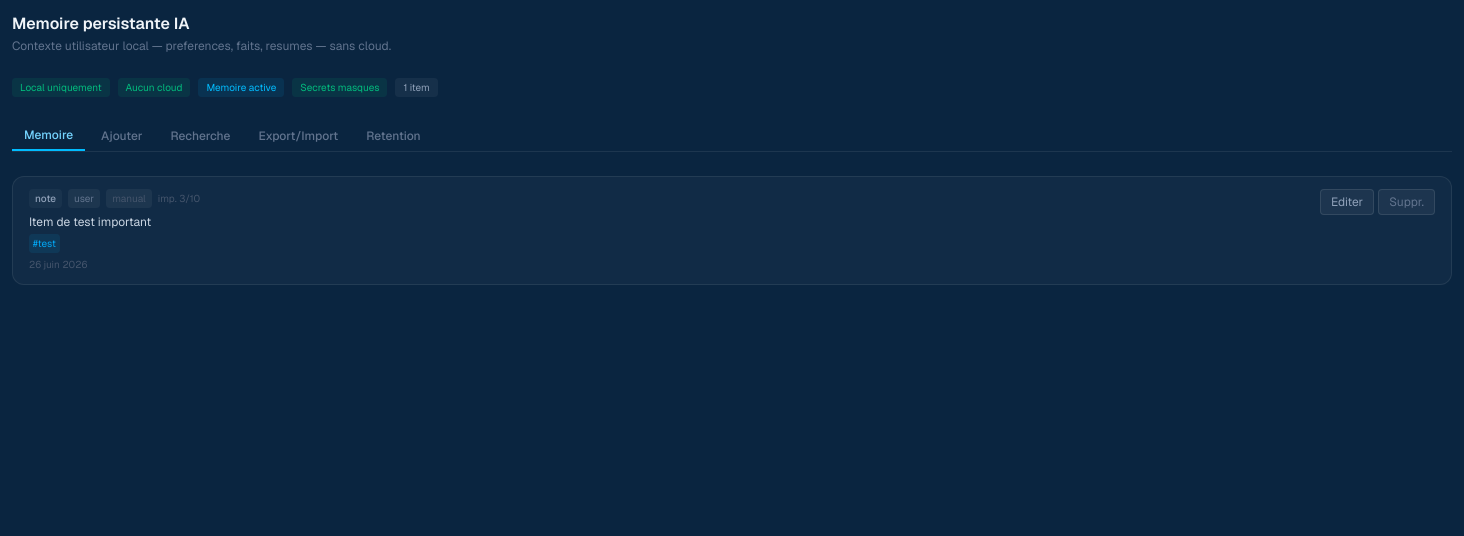
Test: AiMemoryPanel › bascule vers l'onglet Ajouter
Click the button "Ajouter": (122, 136) [89, 121, 155, 151]
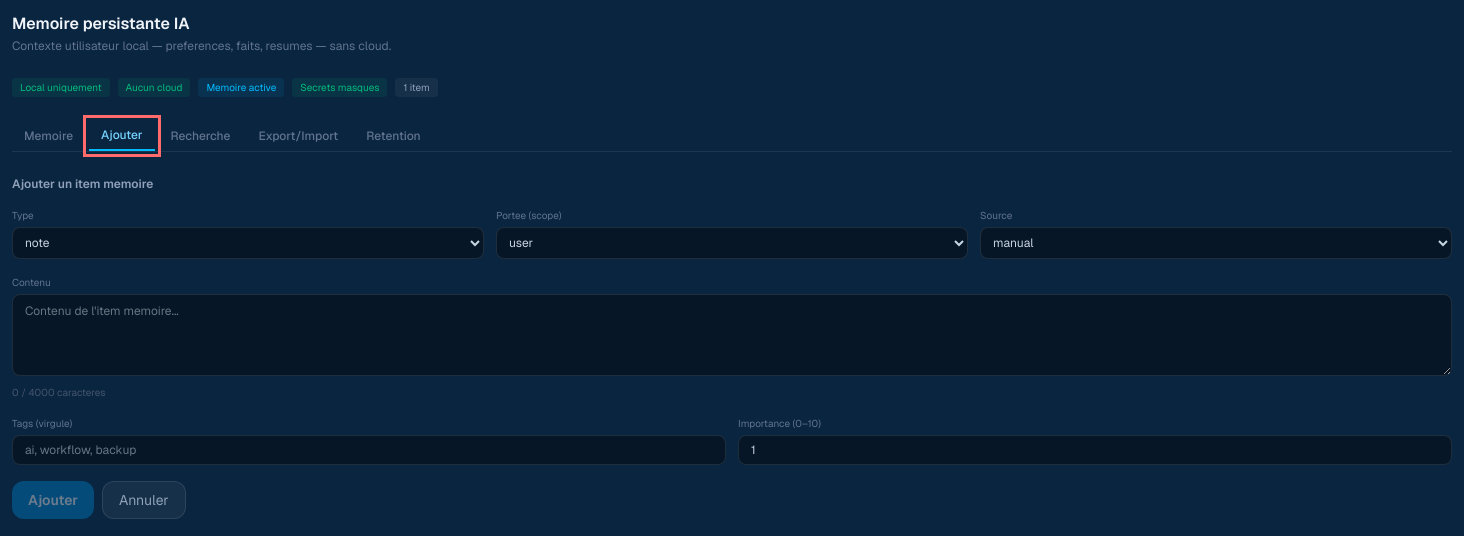
Check: the text box labelled "Contenu de l'item memoire..." is shown, box [12, 294, 1452, 376]
